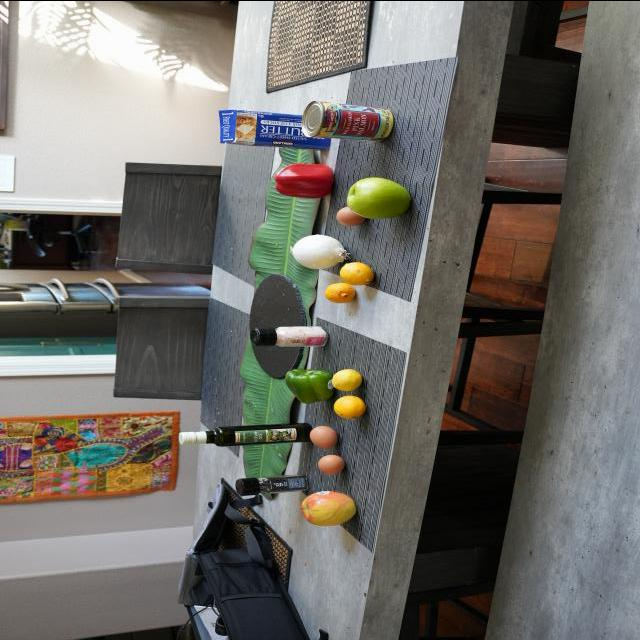bell_pepper: (273, 163, 334, 204), (235, 474, 321, 499), (285, 365, 334, 404)
egg: (335, 205, 370, 229), (306, 424, 340, 448), (317, 452, 350, 475)
onion: (290, 233, 353, 270)
